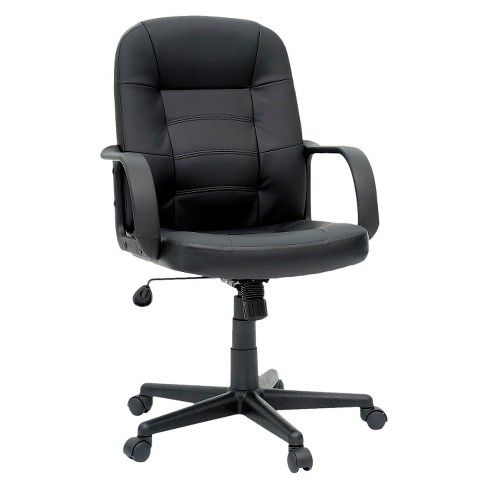chairs: (84, 17, 399, 476)
